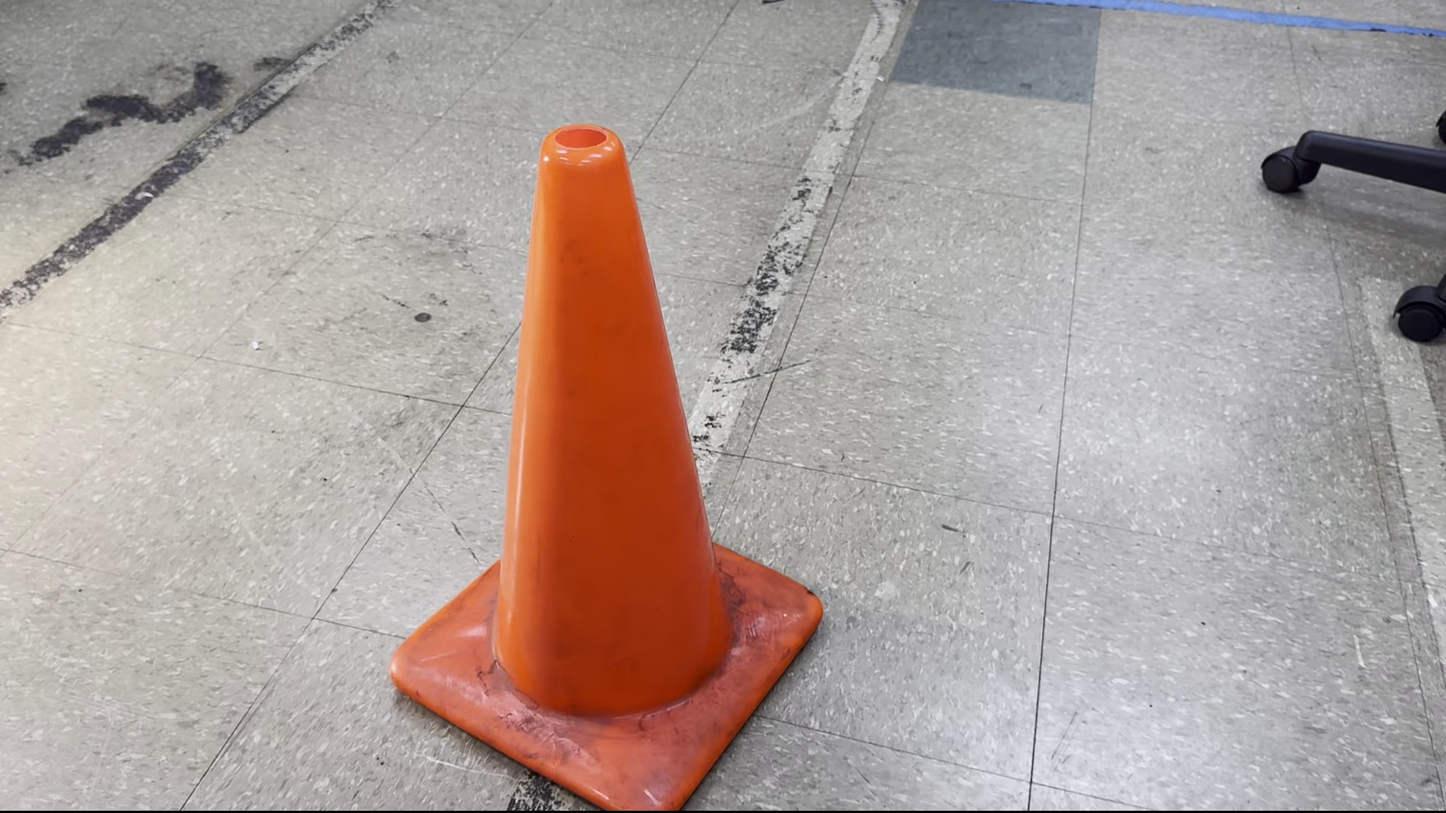traffic_cone: (388, 121, 824, 811)
